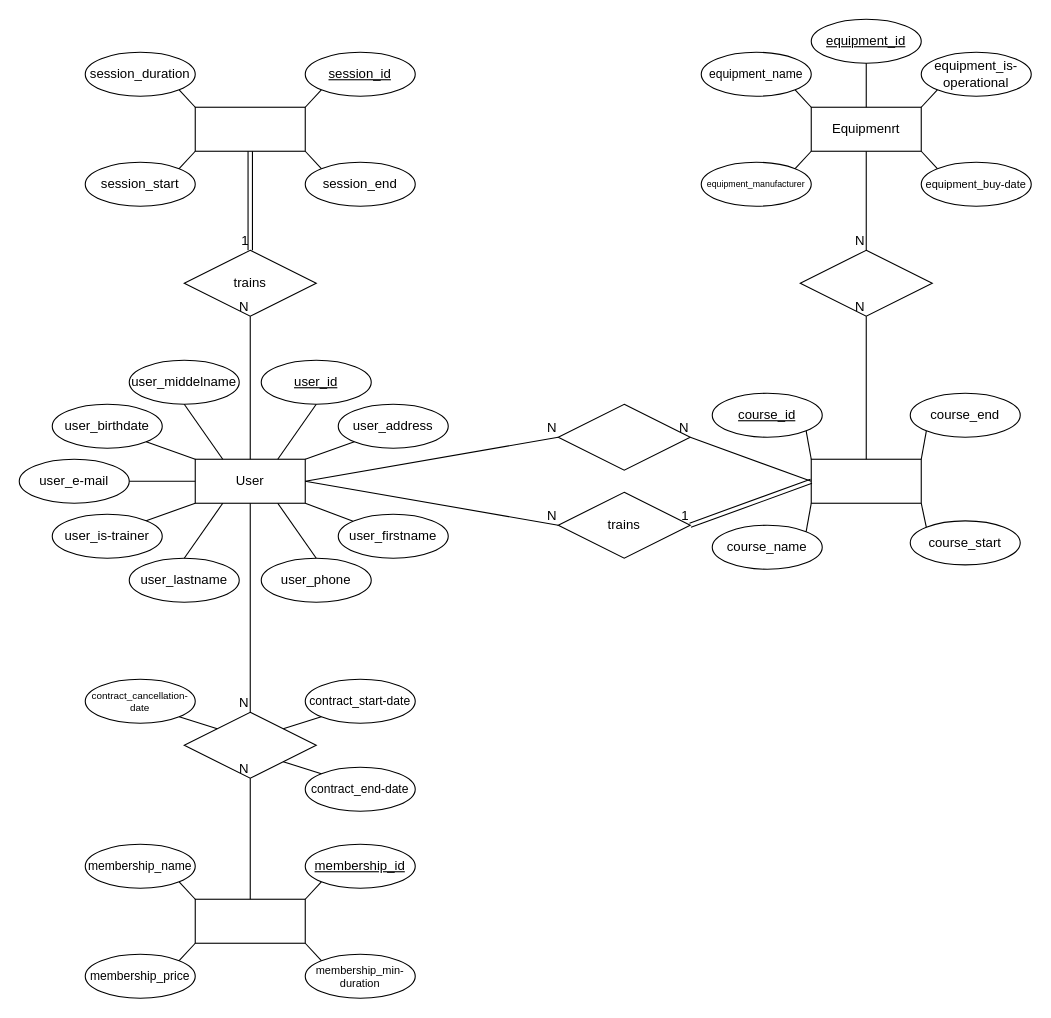
This 1051x1018 diagram has some shape labels left out. Here are the shapes that lost their labels. From the top down, the box of each, then its label:
(194, 106, 305, 151): Session
(799, 249, 932, 316): needs
(557, 403, 690, 470): participate
(810, 458, 921, 503): Course
(183, 711, 316, 778): contract
(194, 898, 305, 943): Membership
